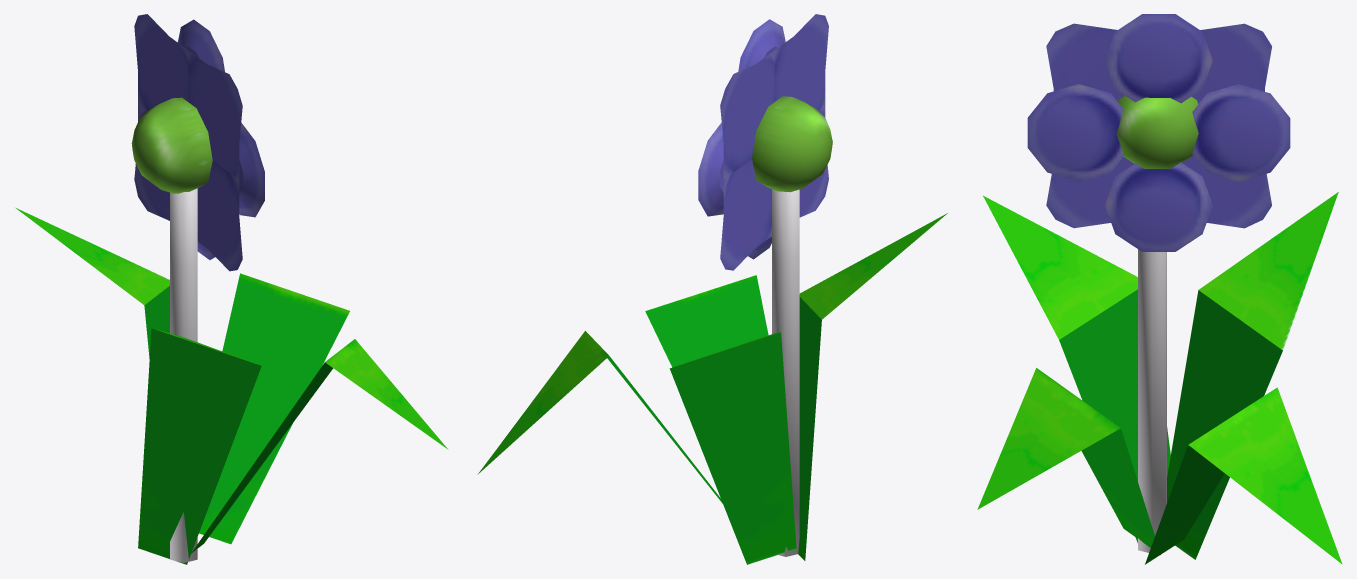
Rendered from GreenHillFlower.obj.
3 views of the same model, side by side, from view 1: azimuth 30°, elevation 25°; view 2: azimuth 150°, elevation 25°; view 3: azimuth 270°, elevation 25° (orthographic). The views are drawn at different scales.
Size of the model in its own units: 9.95 by 16.75 by 10.12.
Materials: 1 (1 with a texture image).
